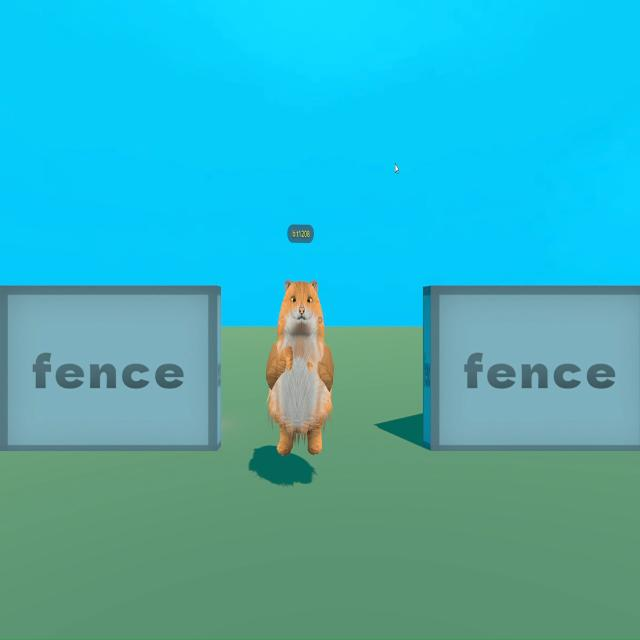human: (265, 267, 335, 482)
